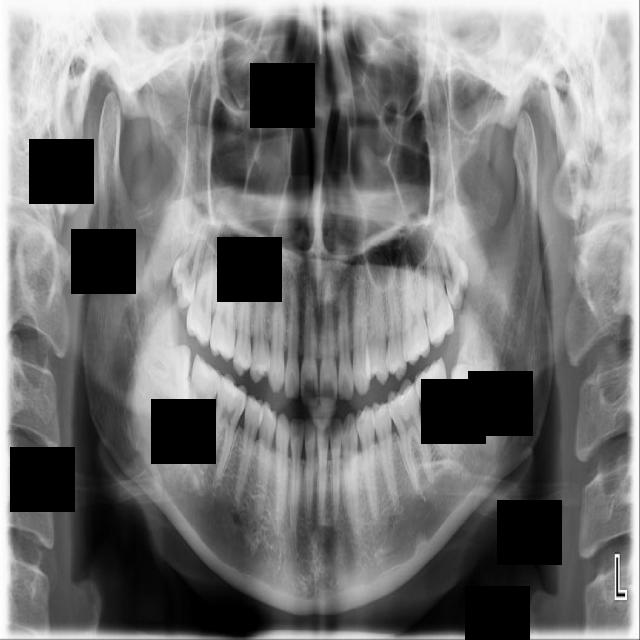3M ESPE Implant: (164, 209, 213, 312)
73: (606, 582, 613, 590)
BioHorizons Implant: (418, 222, 457, 350)
BioLife Implant: (430, 218, 478, 312)
Biomet 3i Implant: (448, 357, 495, 429)
Blue Sky Bio Implant: (411, 356, 461, 464)
Caries: (184, 225, 219, 349)
Implant: (178, 351, 224, 467)
Keystone Dental Implant: (145, 339, 193, 410)
